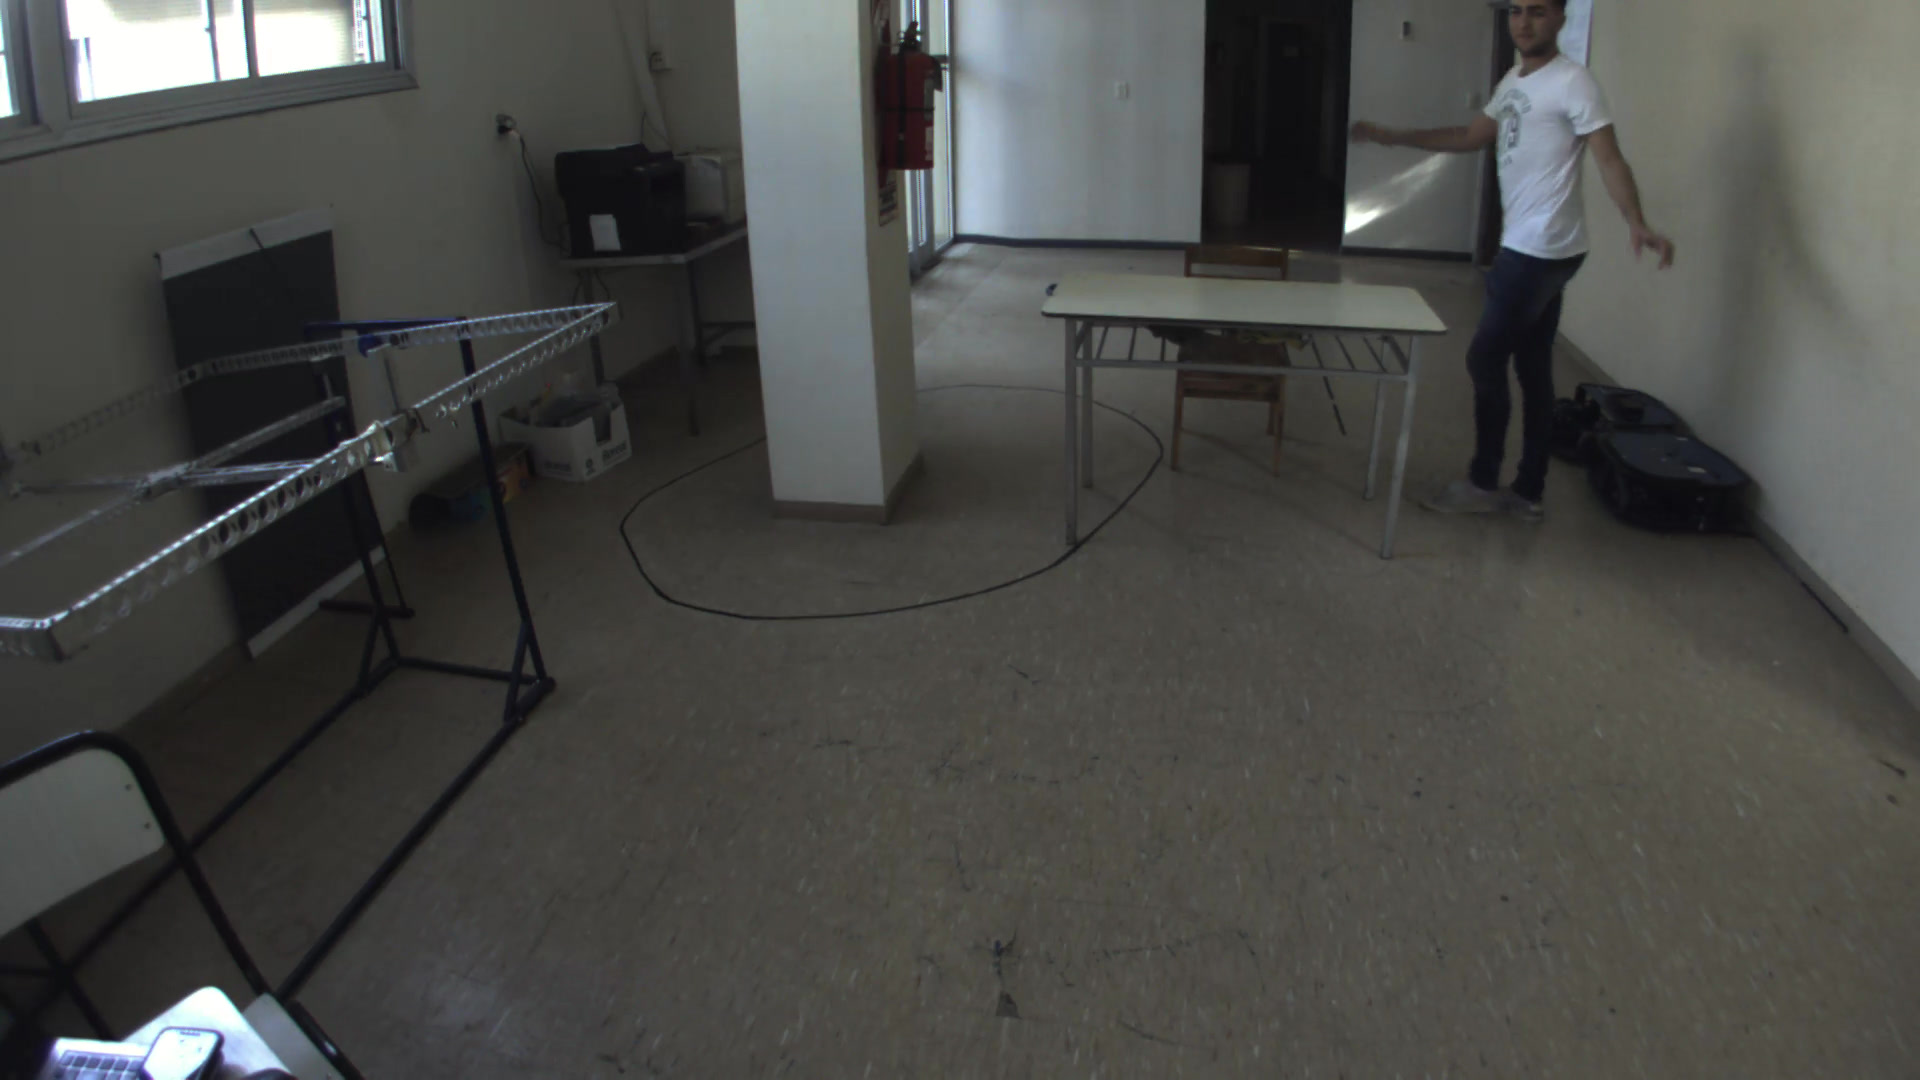hand: (1619, 216, 1689, 276), (1346, 116, 1406, 157)
